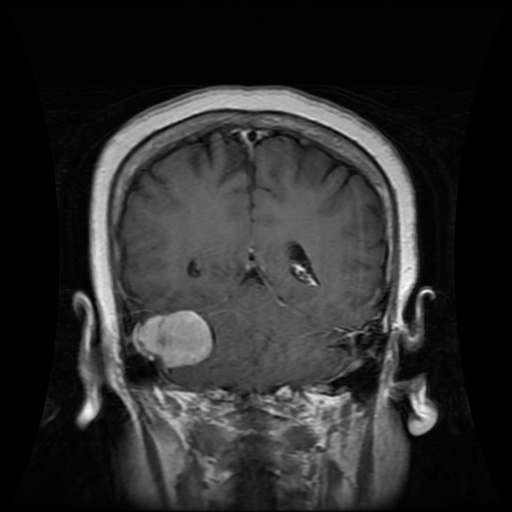meningioma: (134, 308, 212, 368)
